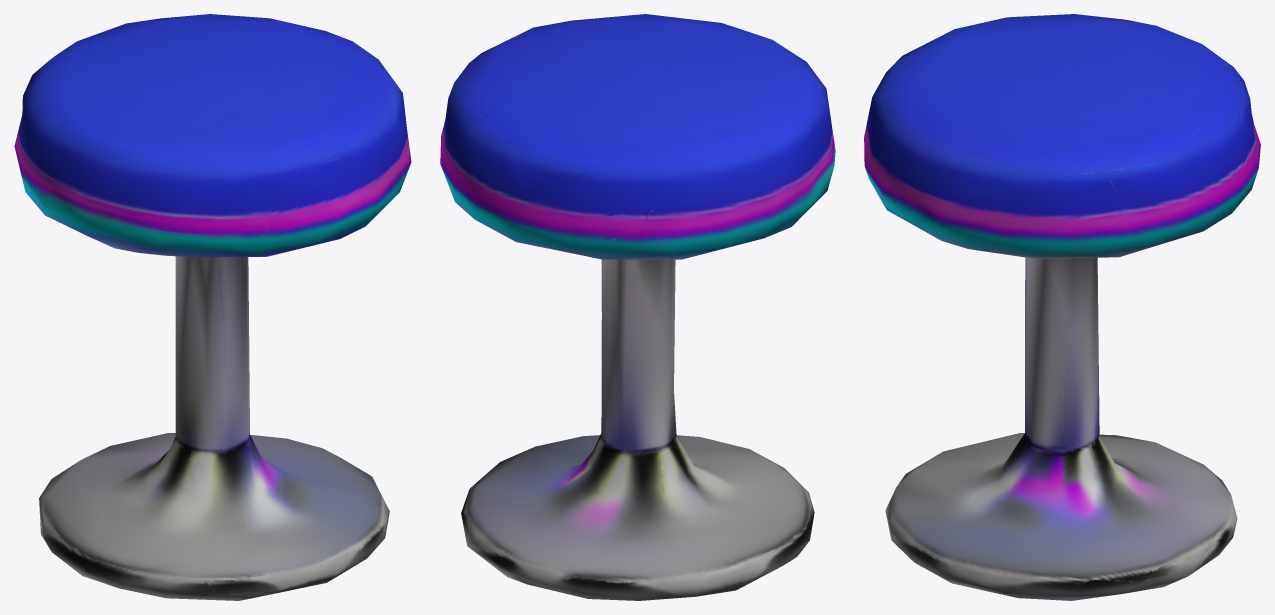
File: hover-stool.glb
3 renders of one model, left to right at view 1: azimuth 30°, elevation 25°; view 2: azimuth 150°, elevation 25°; view 3: azimuth 270°, elevation 25°, orthographic.
Visible parts, largest first — view 1: geometry_0.001; view 2: geometry_0.001; view 3: geometry_0.001.
Part boxes in pixels (bbox=[...]): geometry_0.001: bbox=[14, 14, 411, 600]; geometry_0.001: bbox=[440, 14, 835, 600]; geometry_0.001: bbox=[864, 14, 1260, 600].
Size of the model in its own units: 0.7994 by 0.9999 by 0.8022.
1 material, 1 textured.
